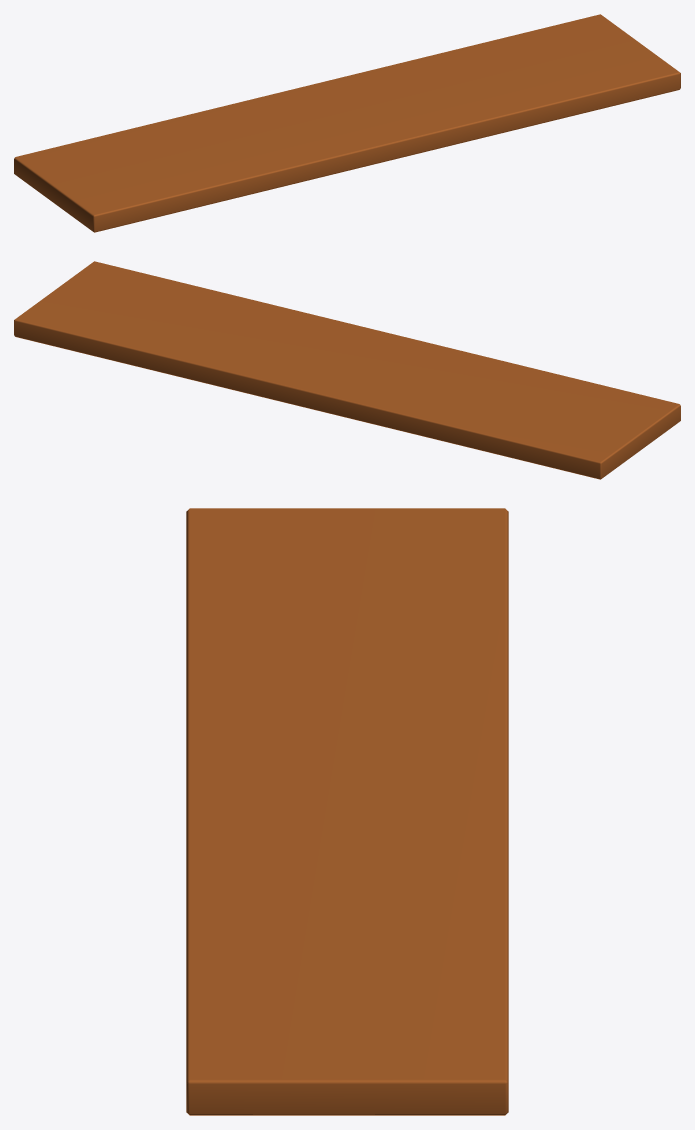
File: raf2.fbx
3 renders of one model, top to bottom at view 1: azimuth 30°, elevation 25°; view 2: azimuth 150°, elevation 25°; view 3: azimuth 270°, elevation 25°, orthographic. The views are drawn at different scales.
Parts seen in each view (by area): view 1: pCube44; view 2: pCube44; view 3: pCube44.
Part boxes in pixels (box(x1,y1,x2,y2)): pCube44: box(14, 14, 680, 232); pCube44: box(14, 261, 680, 479); pCube44: box(186, 508, 508, 1115).
Size of the model in its own units: 164 by 4.82 by 39.05.
